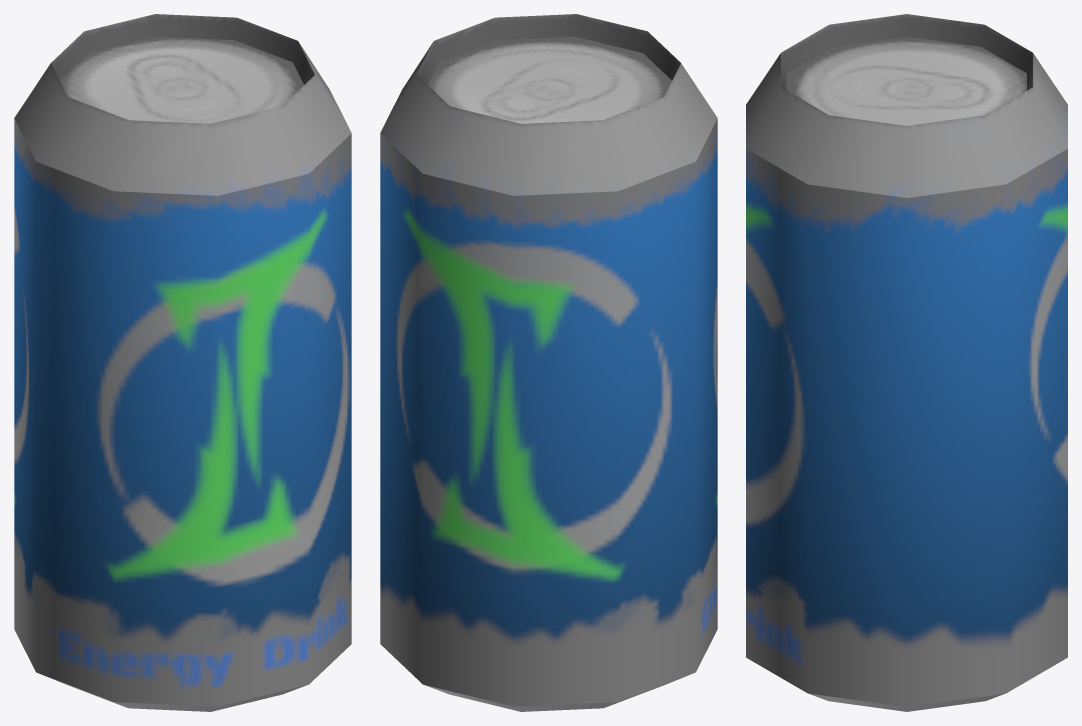
Rendered from Energy_Drink.fbx.
The picture shows the model from 3 angles, left to right: view 1: azimuth 30°, elevation 25°; view 2: azimuth 150°, elevation 25°; view 3: azimuth 270°, elevation 25°; orthographic projection.
Parts seen in each view (by area): view 1: Energy_Drink; view 2: Energy_Drink; view 3: Energy_Drink.
Boxes of the visible parts, x1,y1,x2,y2 form: Energy_Drink: (14,14,351,711); Energy_Drink: (380,14,717,711); Energy_Drink: (746,14,1067,711).
Size of the model in its own units: 7.49 by 14.31 by 7.13.
